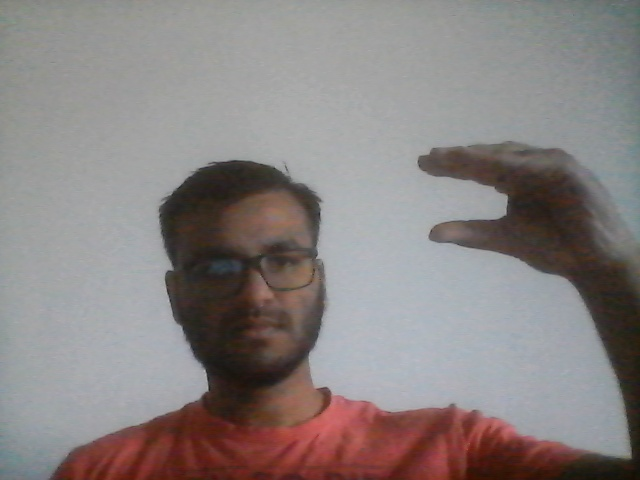No: (416, 139, 631, 280)
